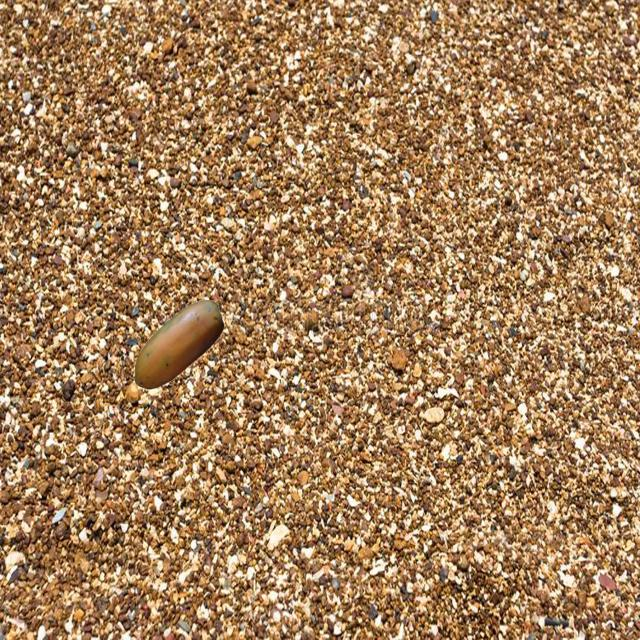Pepaya rippen: (114, 304, 230, 392)
